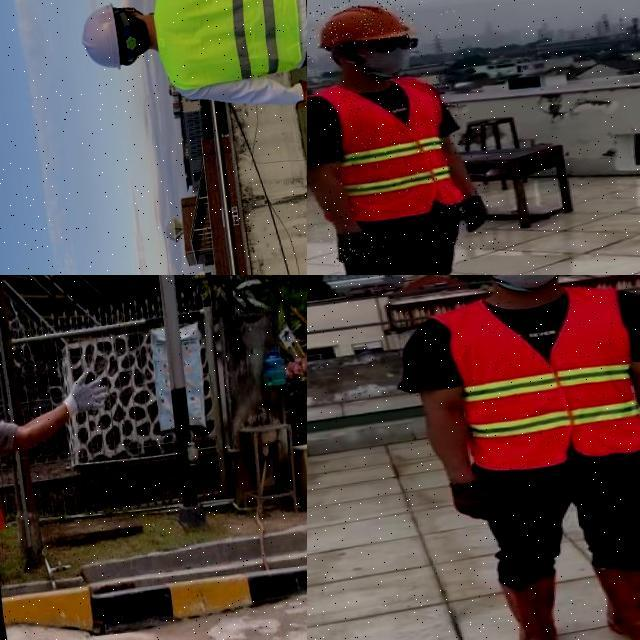boots: (496, 570, 567, 640), (592, 558, 640, 640)
helmet: (310, 0, 413, 49), (74, 0, 124, 76)
vest: (440, 286, 640, 473), (307, 70, 467, 230), (148, 0, 307, 95)
